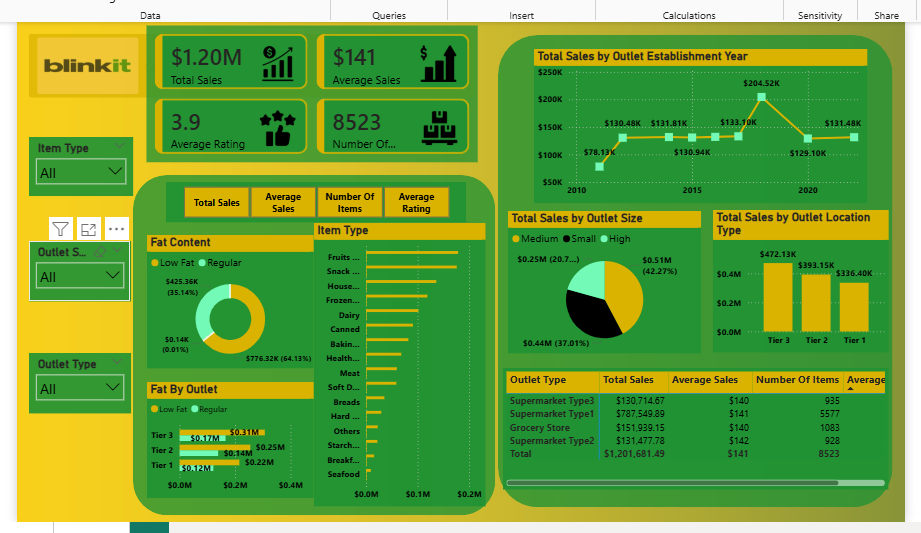

The page's visual inventory and layout, read from the dashboard file:
{"tool":"powerbi","page":{"name":"Page 1","canvas":[1280,720],"ordinal":0},"visuals":[{"type":"cardVisual","fields":{"Data":["CountNonNull(Table1.Sales)"]},"box":[0,0,675,126.7],"z":0},{"type":"shape","box":[693.3,18.3,568.3,680],"z":1000},{"type":"shape","box":[166.7,220,521.7,490],"z":2000},{"type":"cardVisual","fields":{"Data":["Table1.Total Sales","Table1.Average Sales","Table1.Average Rating","Table1.Number Of Items"]},"box":[181.7,0,488.3,208.3],"z":3000},{"type":"donutChart","title":"Fat Content","fields":{"Y":["Table1.Total Sales","Table1.Average Sales","Table1.Number Of Items","Table1.Average Rating"],"Category":["Table1.Item Fat Content"]},"box":[186.7,306.7,240,191.7],"z":4000},{"type":"clusteredBarChart","title":"Item Type","fields":{"Y":["Table1.Total Sales","Table1.Average Sales","Table1.Number Of Items","Table1.Average Rating"],"Category":["Table1.Item Type"]},"box":[428.3,290,246.7,408.3],"z":5000},{"type":"slicer","fields":{"Values":["Table1.Item Type"]},"box":[16.7,165,150,85],"z":6000},{"type":"slicer","fields":{"Values":["Table1.Outlet Size"]},"box":[16.7,315,146.7,86.7],"z":7000},{"type":"slicer","fields":{"Values":["Table1.Outlet Type"]},"box":[16.7,476.7,146.7,86.7],"z":8000},{"type":"slicer","fields":{"Values":["Metrics.Metrics"]},"box":[215,230,431.7,58.3],"z":9000},{"type":"clusteredBarChart","title":"Fat By Outlet","fields":{"Y":["Table1.Total Sales"],"Category":["Table1.Outlet Location Type"],"Series":["Table1.Item Fat Content"]},"box":[186.7,518.3,240,166.7],"z":10000},{"type":"lineChart","fields":{"Category":["Table1.Outlet Establishment Year"],"Y":["Table1.Total Sales"]},"box":[745,38.3,480,221.7],"z":11000},{"type":"pieChart","fields":{"Y":["Table1.Total Sales"],"Category":["Table1.Outlet Size"]},"box":[706.7,271.7,278.3,205],"z":12000},{"type":"columnChart","fields":{"Category":["Table1.Outlet Location Type"],"Y":["Table1.Total Sales"]},"box":[1001.7,270,253.3,205],"z":13000},{"type":"pivotTable","fields":{"Rows":["Table1.Outlet Type"],"Values":["Table1.Total Sales","Table1.Average Sales","Table1.Number Of Items","Table1.Average Rating"]},"box":[700,498.3,555,175],"z":14000}]}

Visuals, with their boxes in screenshot pixels (x1, y1, x2, y2):
cardVisual - CountNonNull(Table1.Sales): detection(12, 19, 491, 109)
shape: detection(504, 32, 907, 515)
shape: detection(130, 175, 500, 523)
cardVisual - Table1.Total Sales x Table1.Average Sales: detection(141, 19, 487, 167)
"Fat Content" donutChart: detection(144, 237, 315, 373)
"Item Type" clusteredBarChart: detection(316, 225, 491, 515)
slicer - Table1.Item Type: detection(24, 136, 130, 197)
slicer - Table1.Outlet Size: detection(24, 243, 128, 304)
slicer - Table1.Outlet Type: detection(24, 357, 128, 419)
slicer - Metrics.Metrics: detection(165, 182, 471, 224)
"Fat By Outlet" clusteredBarChart: detection(144, 387, 315, 505)
lineChart - Table1.Outlet Establishment Year x Table1.Total Sales: detection(541, 46, 881, 204)
pieChart - Table1.Total Sales x Table1.Outlet Size: detection(513, 212, 711, 357)
columnChart - Table1.Outlet Location Type x Table1.Total Sales: detection(723, 211, 903, 356)
pivotTable - Table1.Outlet Type x Table1.Total Sales: detection(509, 373, 903, 497)
